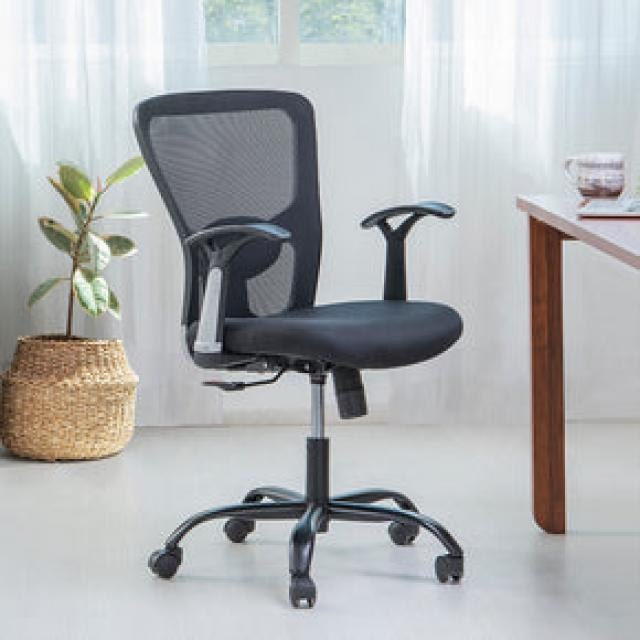chair: (95, 85, 515, 635)
